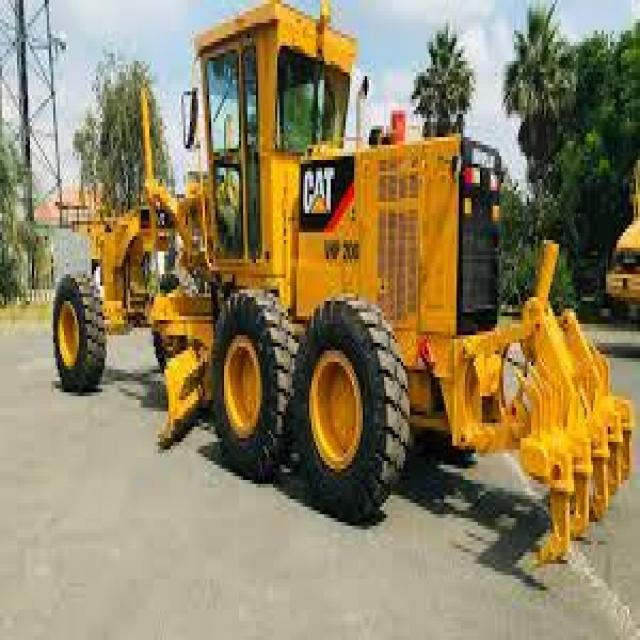Grader: (34, 11, 638, 564)
